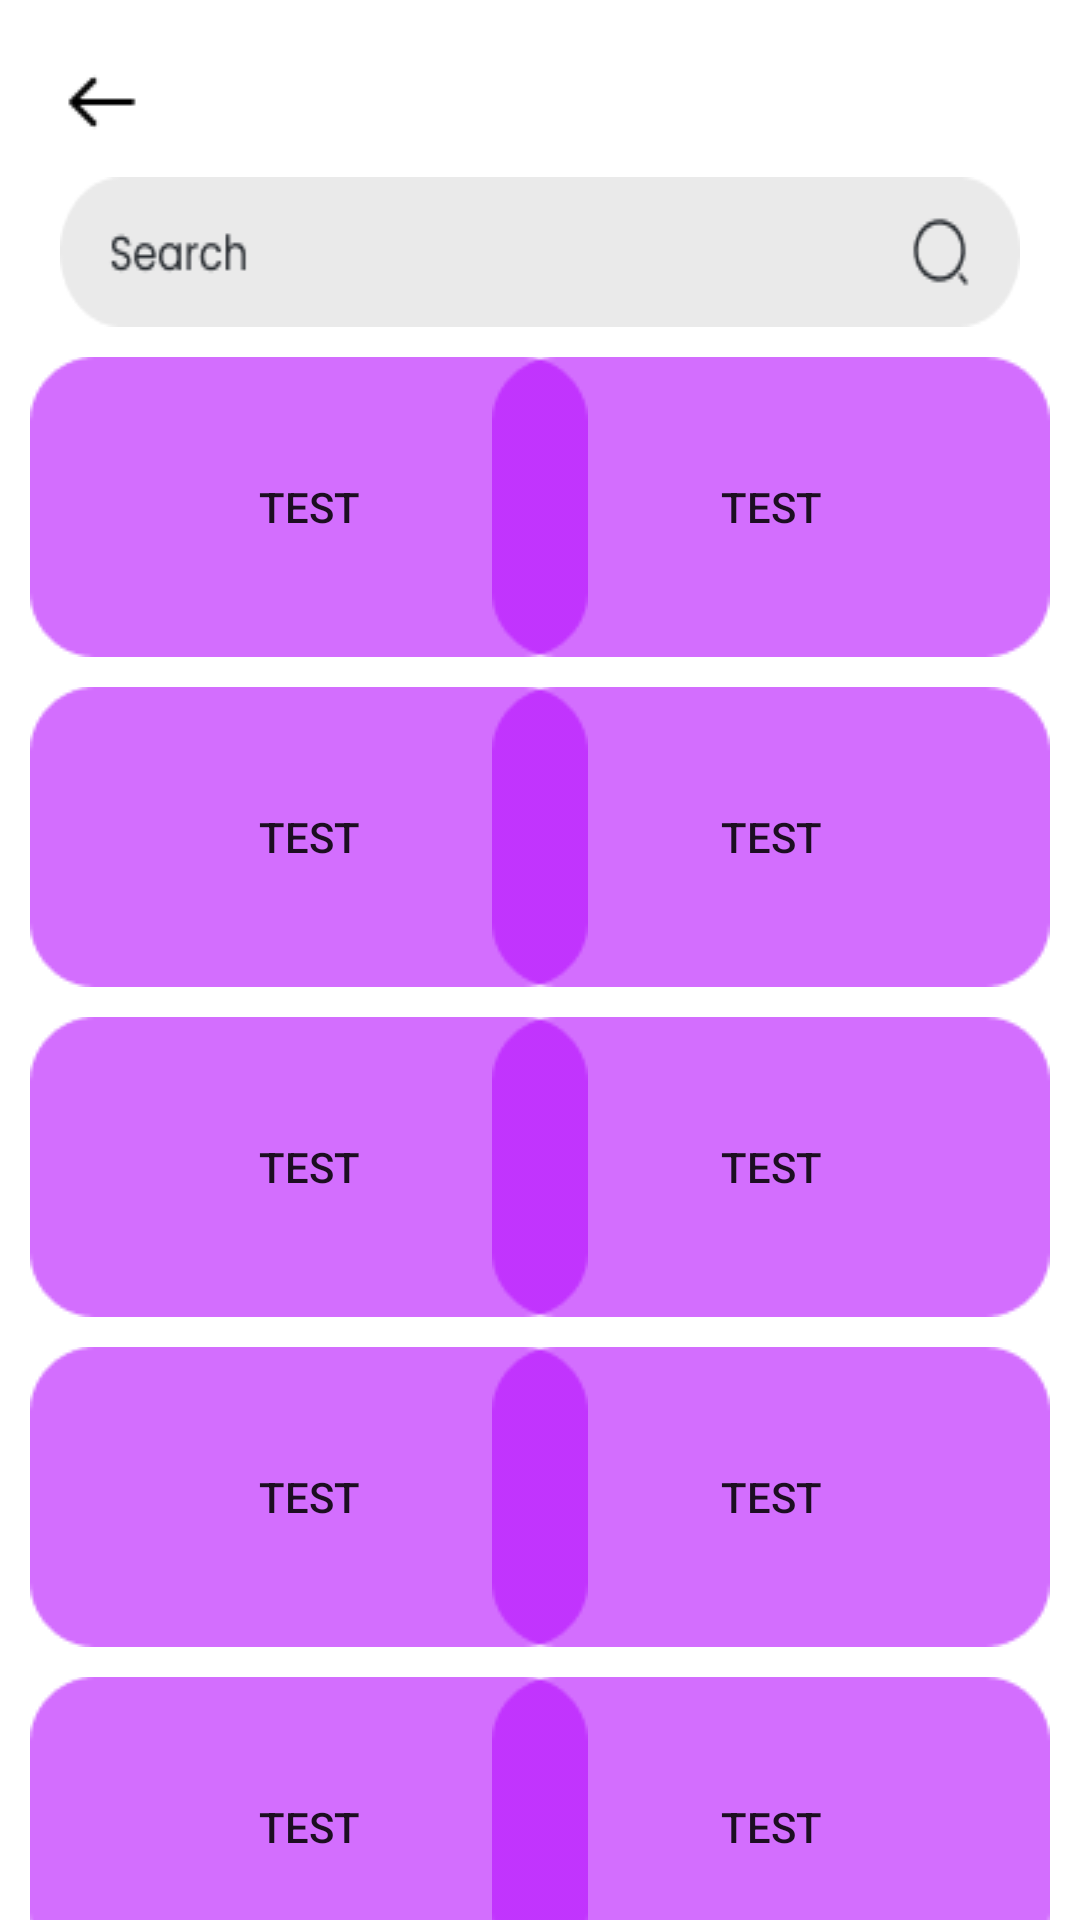

Icon click points for this 1080px×1920px phone screenshot, format point (x, y):
arrow: point (102, 102)
